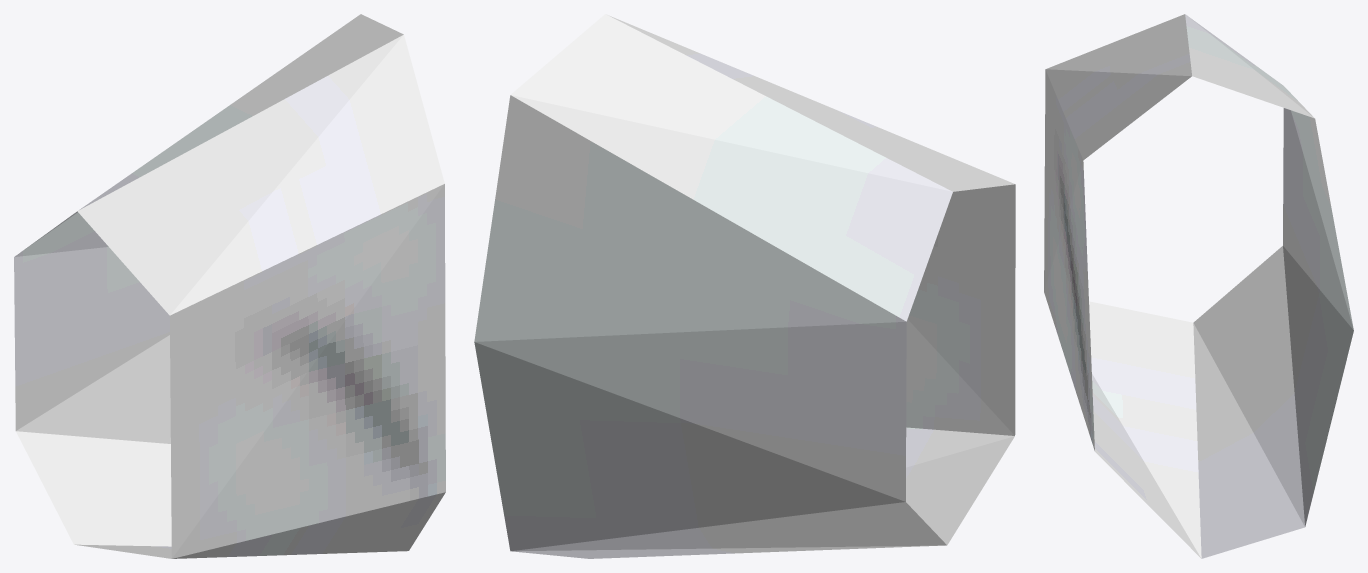
3 renders of one model, left to right at view 1: azimuth 30°, elevation 25°; view 2: azimuth 150°, elevation 25°; view 3: azimuth 270°, elevation 25°, orthographic. The views are drawn at different scales.
Parts seen in each view (by area): view 1: mesh_0D53C003385E74FC; view 2: mesh_0D53C003385E74FC; view 3: mesh_0D53C003385E74FC.
Boxes of the visible parts, x1,y1,x2,y2 form: mesh_0D53C003385E74FC: (14,14,445,558); mesh_0D53C003385E74FC: (474,14,1015,558); mesh_0D53C003385E74FC: (1044,14,1353,558).
Size of the model in its own units: 0.9664 by 1.28 by 0.7513.
